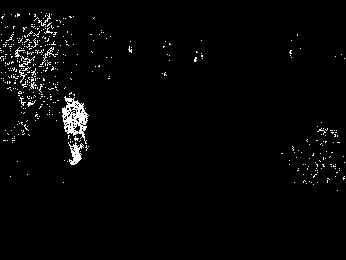person: (63, 93, 89, 165)
